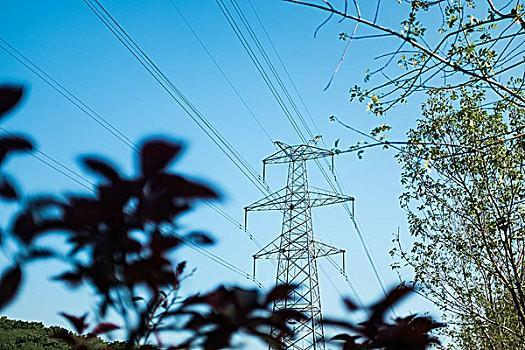power_tower: (234, 132, 354, 350)
